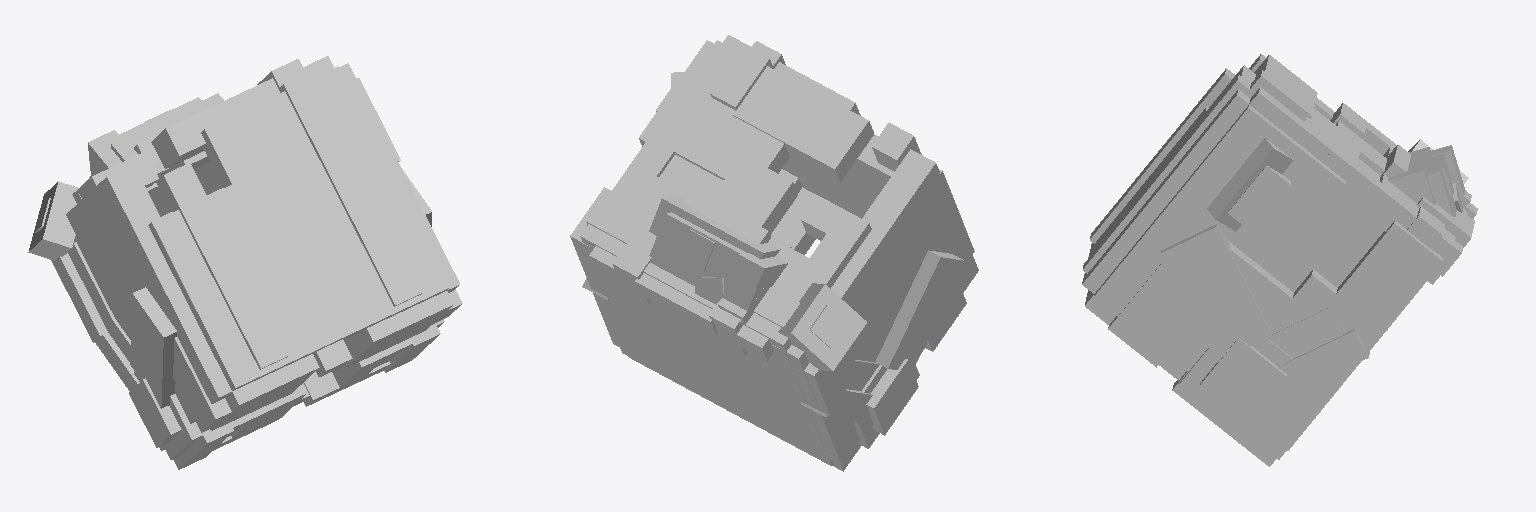
File: x03_helmet_broken.obj
The picture shows the model from 3 angles: view 1: azimuth 30°, elevation 25°; view 2: azimuth 150°, elevation 25°; view 3: azimuth 270°, elevation 25°; orthographic projection.
Visible parts, largest first — view 1: Head; view 2: Head; view 3: Head.
Part boxes in pixels (left/top/right/bottom): Head: left=28, top=56, right=462, bottom=469; Head: left=570, top=35, right=978, bottom=471; Head: left=1082, top=54, right=1477, bottom=466.
Bounding box in the file's own units: 0.7354 × 0.8699 × 0.7952.